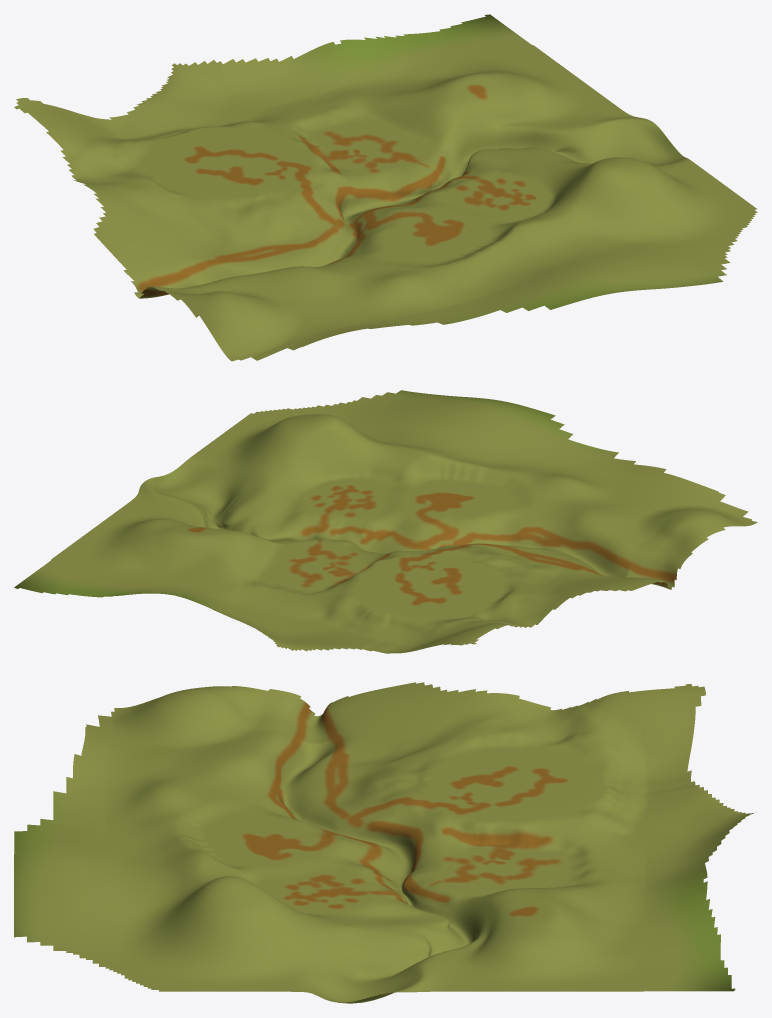
Rendered from GroundTexture.fbx.
3 views of the same model, one above another, from view 1: azimuth 30°, elevation 25°; view 2: azimuth 150°, elevation 25°; view 3: azimuth 270°, elevation 25° (orthographic). The views are drawn at different scales.
Parts seen in each view (by area): view 1: Ground; view 2: Ground; view 3: Ground.
Boxes of the visible parts, box(x1,y1,x2,y2) form: Ground: box(14, 14, 757, 361); Ground: box(14, 390, 757, 653); Ground: box(14, 682, 756, 1003).
Size of the model in its own units: 40574 by 4683 by 43696.
1 material, 1 textured.
